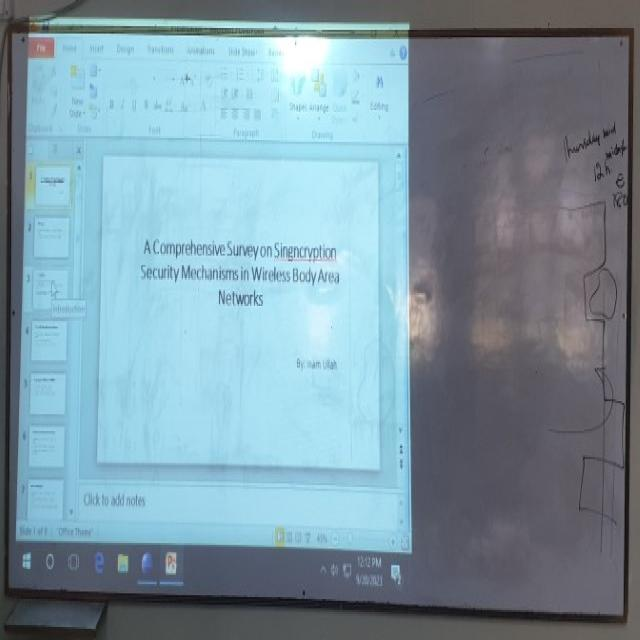Slide: (16, 15, 412, 597)
White-board: (7, 20, 632, 626)
